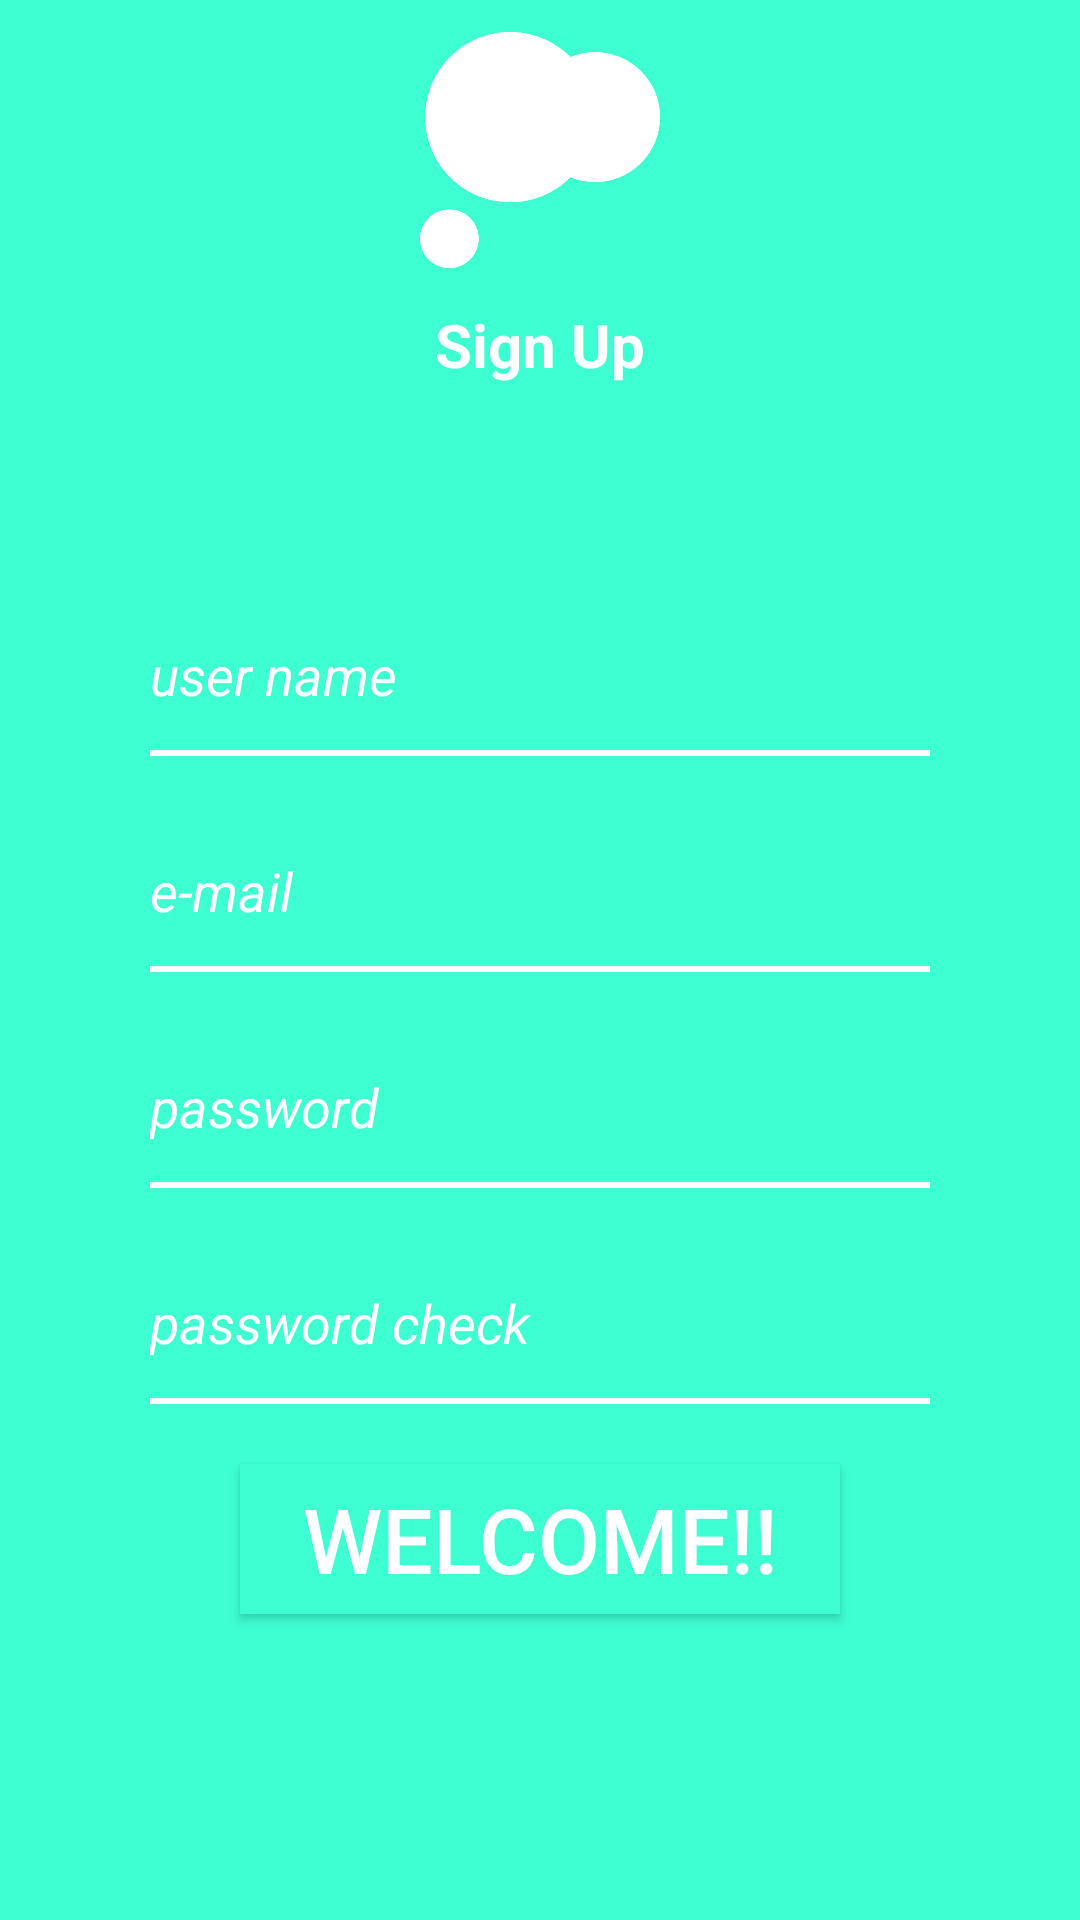

Icons on this 1080px×1920px Android screen, each with the point to tap as (x,y):
cloud: (540,150)
